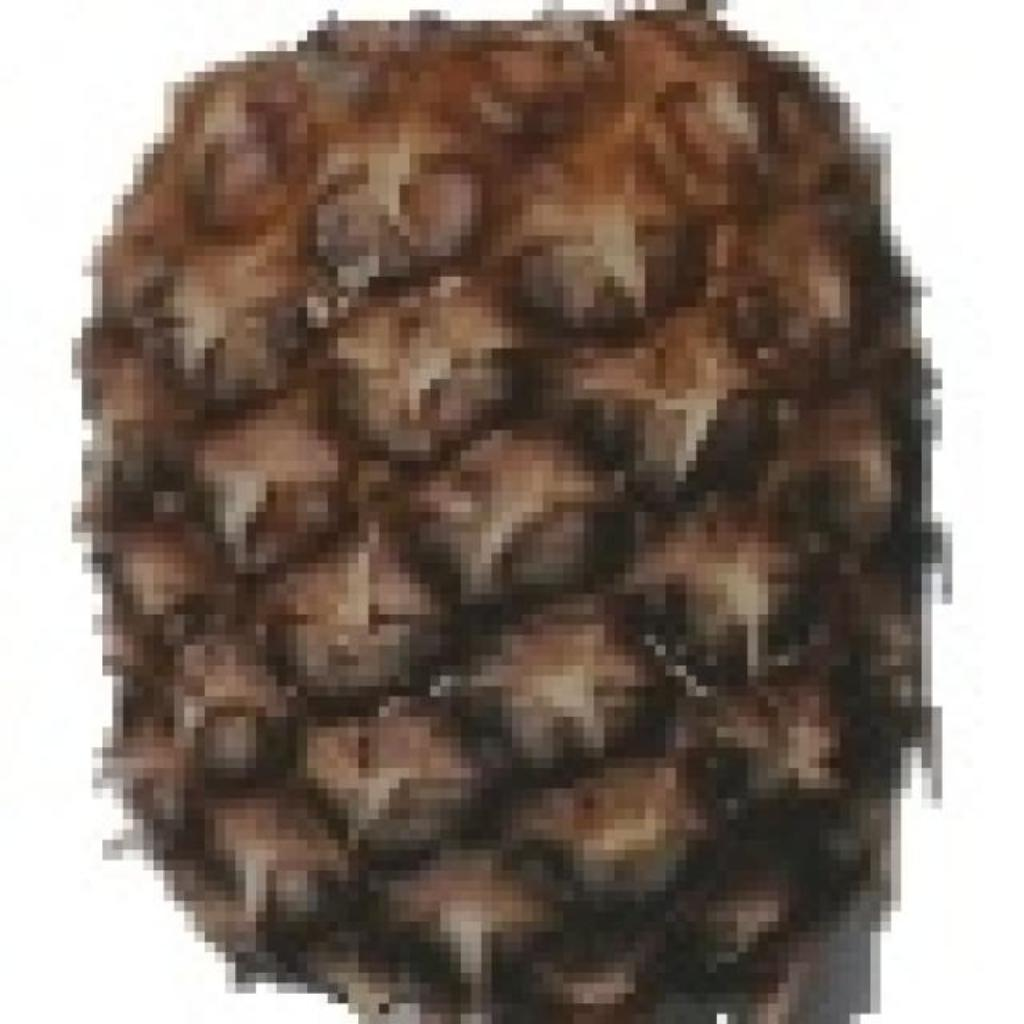pineapple: (72, 0, 911, 1004)
